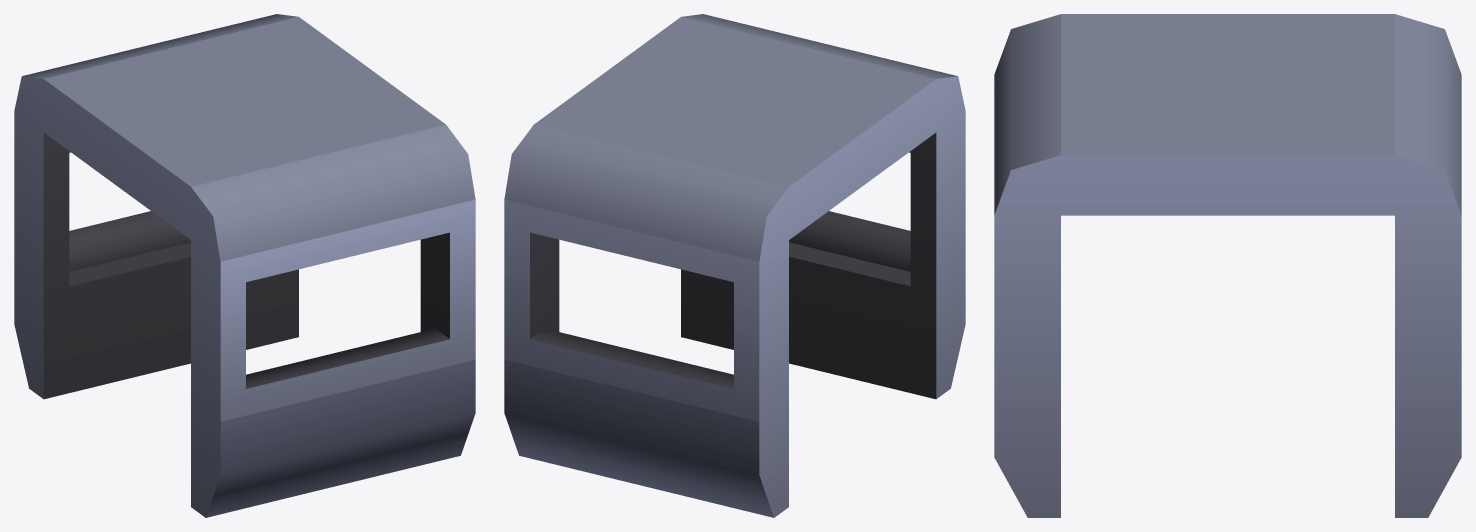
3 renders of one model, left to right at view 1: azimuth 30°, elevation 25°; view 2: azimuth 150°, elevation 25°; view 3: azimuth 270°, elevation 25°, orthographic. The views are drawn at different scales.
Visible parts, largest first — view 1: cover_window; view 2: cover_window; view 3: cover_window.
Boxes of the visible parts, x1,y1,x2,y2 form: cover_window: [14, 14, 475, 517]; cover_window: [504, 14, 965, 517]; cover_window: [994, 14, 1461, 517].
Bounding box in the file's own units: 1 × 1.2 × 1.4.
1 material, 1 textured.
